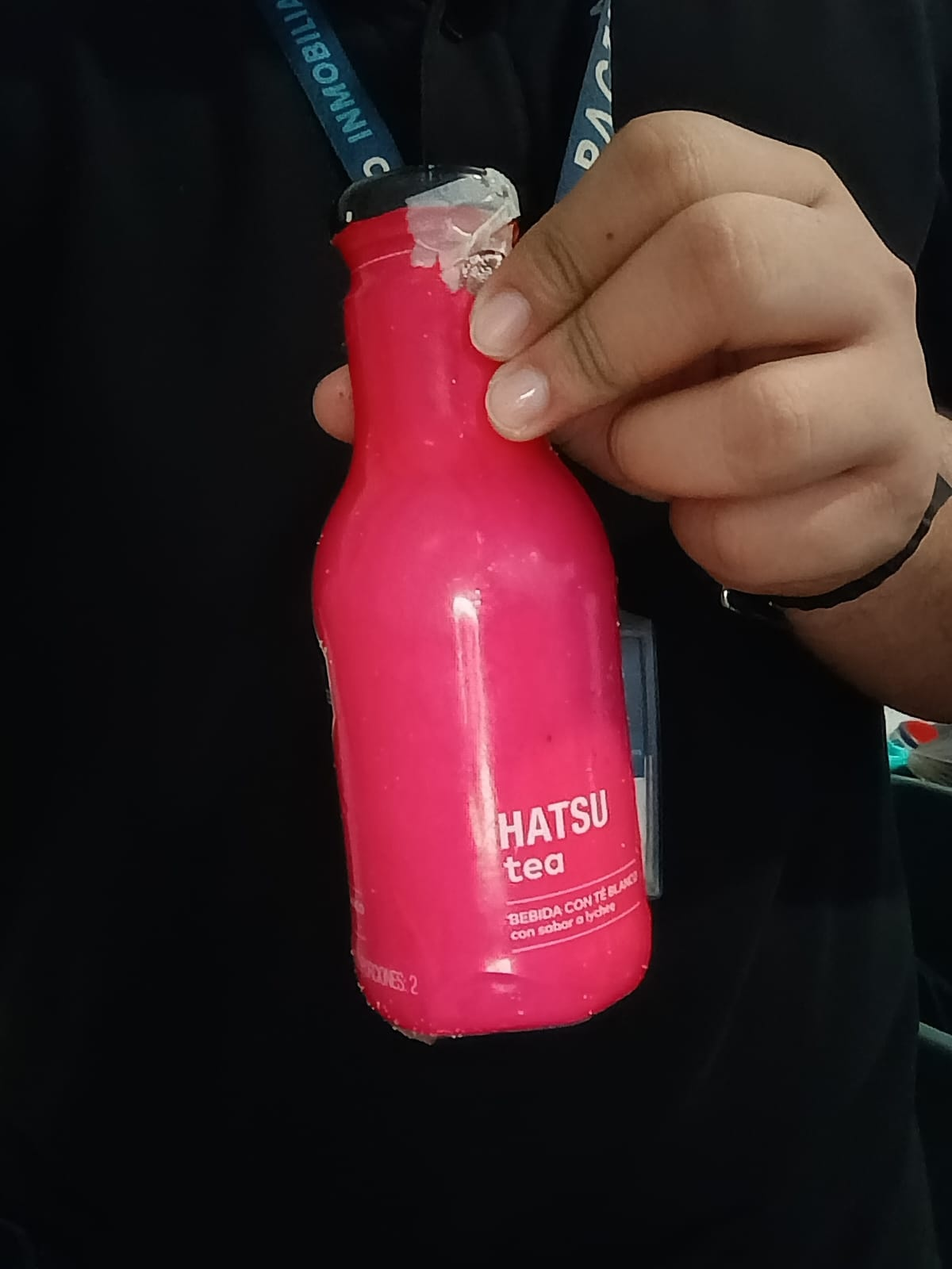Vidrio: (306, 209, 657, 1037)
